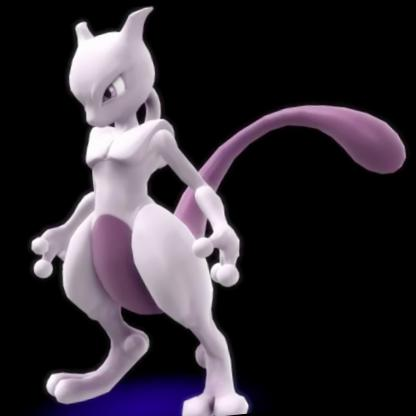Mewtwo: (1, 1, 330, 416)
